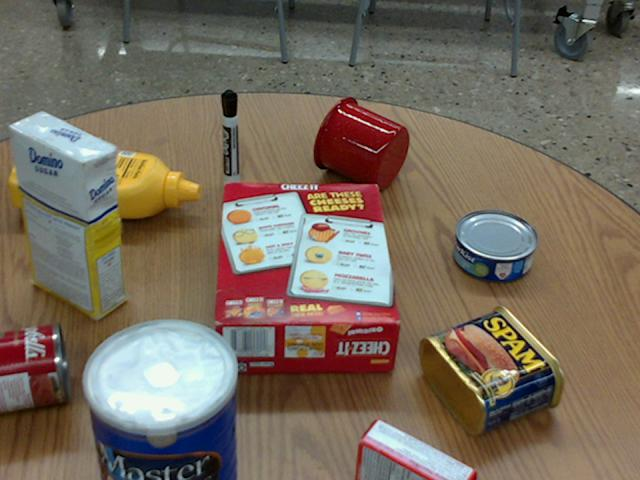cracker_box: (213, 184, 400, 369)
gelatin_box: (354, 417, 477, 479)
large_marker: (220, 90, 238, 187)
master_chef_can: (79, 318, 234, 479)
mug: (313, 96, 409, 190)
mustard_bottle: (10, 142, 198, 217)
potted_meat_can: (421, 305, 564, 435)
sugar_box: (9, 111, 122, 319)
tomato_soup_can: (0, 321, 69, 410)
tuna_fish_can: (453, 209, 537, 281)
